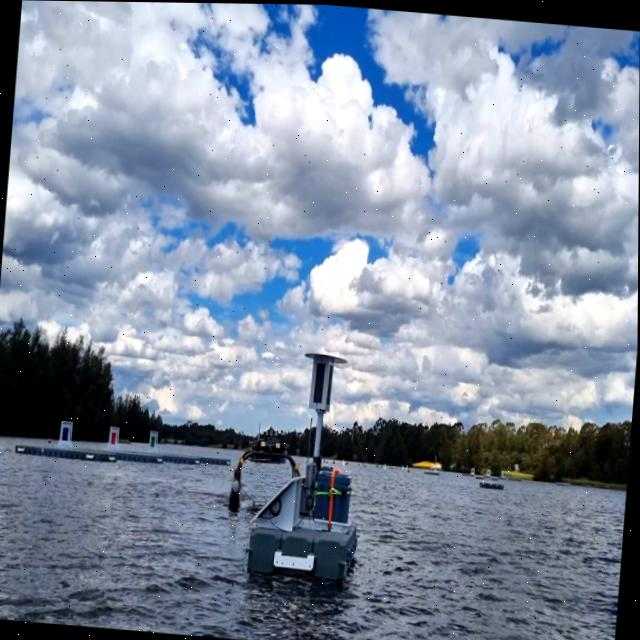led: (312, 358, 328, 407)
